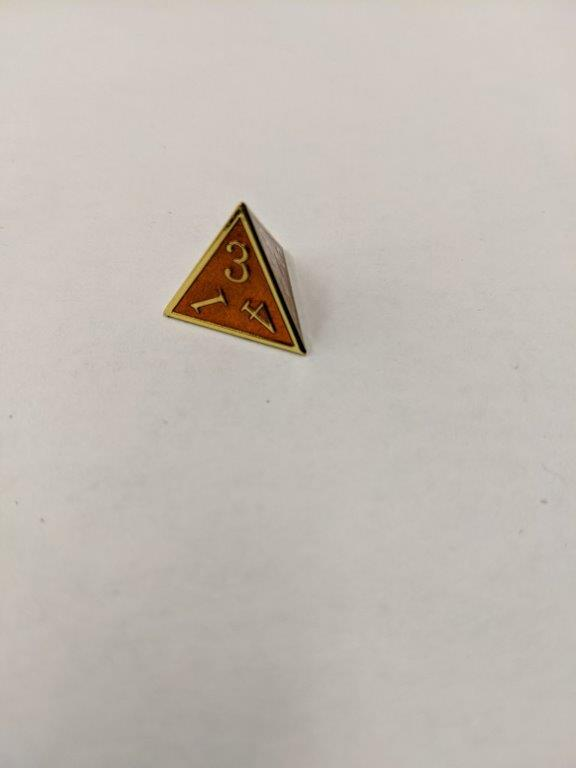d4-3: (157, 200, 314, 364)
